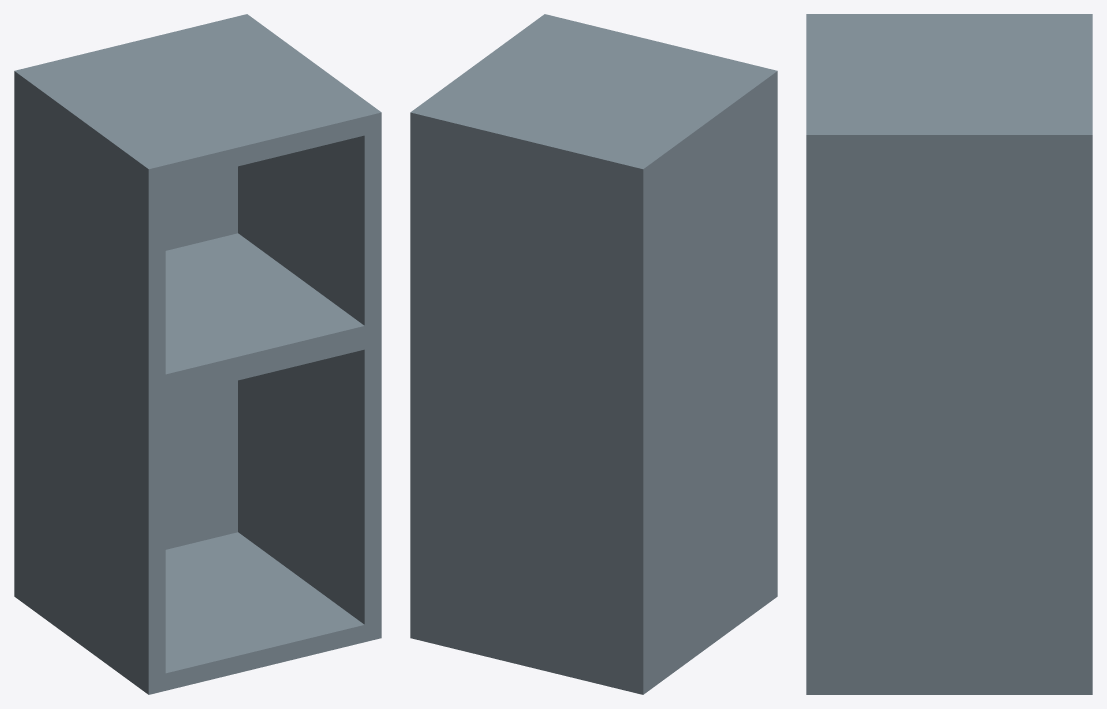
File: SmallShelve.fbx
The picture shows the model from 3 angles, left to right: view 1: azimuth 30°, elevation 25°; view 2: azimuth 150°, elevation 25°; view 3: azimuth 270°, elevation 25°; orthographic projection. The views are drawn at different scales.
Parts seen in each view (by area): view 1: Cube.225; view 2: Cube.225; view 3: Cube.225.
Part boxes in pixels (<box>): Cube.225: <box>14,14,381,694</box>; Cube.225: <box>410,14,777,694</box>; Cube.225: <box>806,14,1092,694</box>.
Size of the model in its own units: 200 by 431 by 200.
